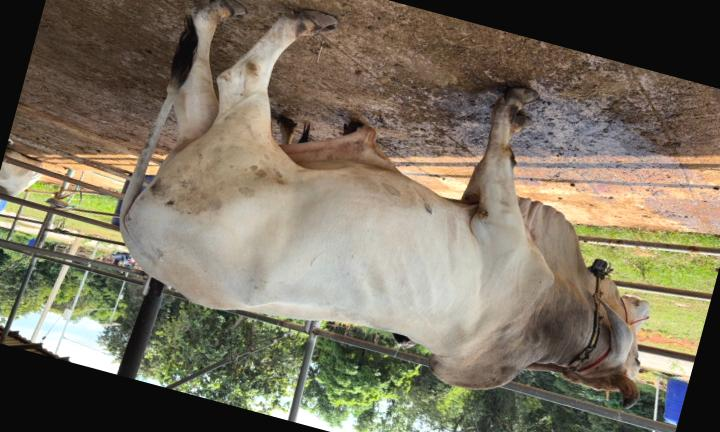Brahman: (120, 0, 648, 407)
